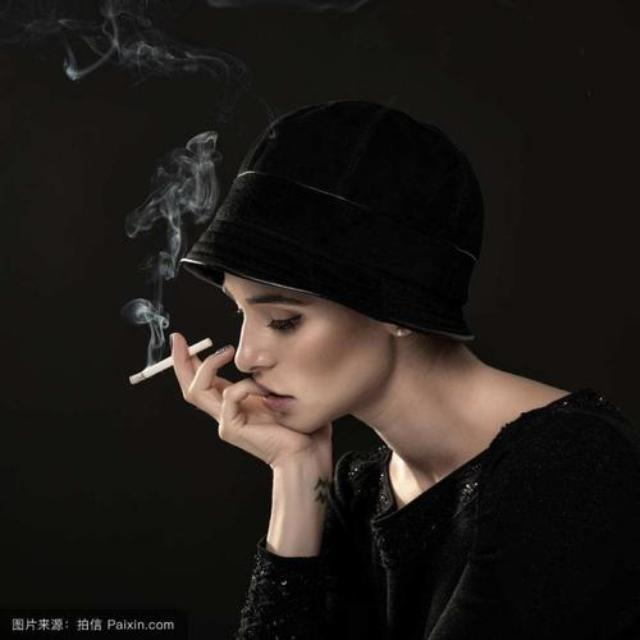Smoking: (123, 336, 217, 392)
